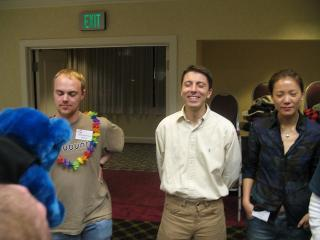person - v3 P: (156, 65, 241, 239), (242, 70, 319, 239), (50, 69, 123, 239), (0, 184, 51, 239), (309, 165, 319, 239)
